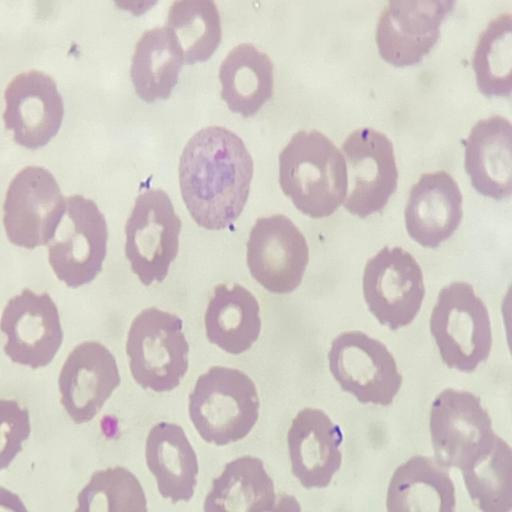Infected: (180, 126, 251, 232)
Uninfected: (277, 131, 348, 217), (430, 390, 499, 476), (429, 283, 492, 372), (189, 367, 260, 443), (49, 196, 109, 285), (125, 309, 190, 391), (340, 128, 400, 216), (328, 332, 399, 406), (125, 191, 182, 283), (362, 246, 424, 329), (4, 166, 66, 249), (378, 1, 452, 66), (3, 71, 65, 148), (59, 343, 119, 422), (1, 289, 61, 368), (250, 215, 309, 292), (145, 421, 201, 502), (287, 408, 343, 486), (405, 172, 462, 246), (205, 284, 262, 355), (206, 456, 278, 512), (218, 44, 274, 114), (464, 117, 512, 197), (131, 28, 184, 100), (388, 460, 457, 510), (472, 13, 512, 98), (168, 0, 221, 62)
